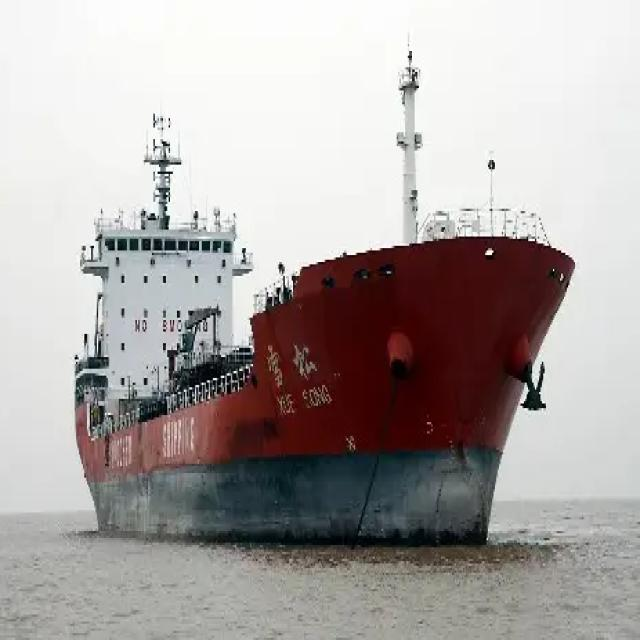cargoship: (70, 60, 578, 545)
